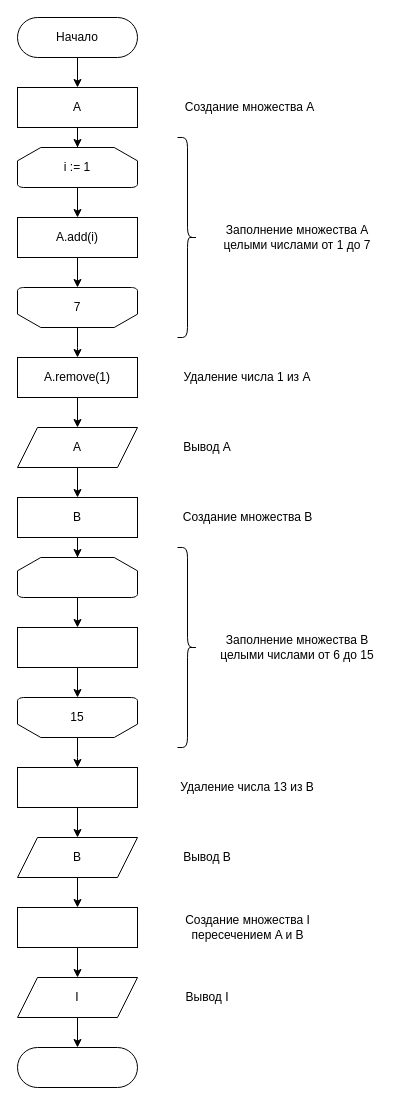
This 405x1105 diagram has some shape labels left out. The centre of each missing label's shape, as x and y in pixels:
i := 6: the point at 77,577
I = A * B: the point at 77,927
В.add(i): the point at 77,647
В.remove(13): the point at 77,787
Конец: the point at 77,1067
